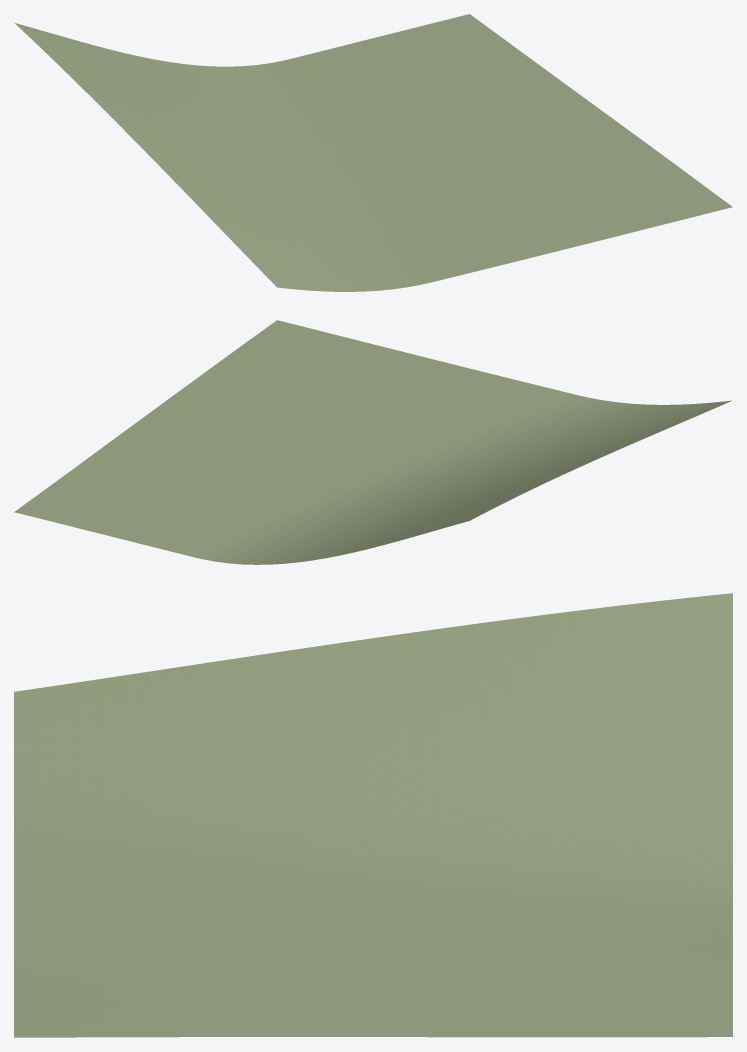
The model's file is desert-22-19.glb.
The picture shows the model from 3 angles, top to bottom: view 1: azimuth 30°, elevation 25°; view 2: azimuth 150°, elevation 25°; view 3: azimuth 270°, elevation 25°; orthographic projection. The views are drawn at different scales.
Parts seen in each view (by area): view 1: desert-22-19; view 2: desert-22-19; view 3: desert-22-19.
Boxes of the visible parts, x1,y1,x2,y2 form: desert-22-19: [14, 14, 732, 291]; desert-22-19: [14, 320, 731, 564]; desert-22-19: [14, 593, 732, 1037].
Size of the model in its own units: 512 by 112 by 512.
